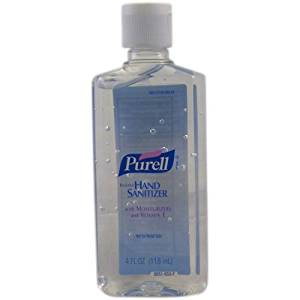Sanitizer: (87, 1, 212, 297)
